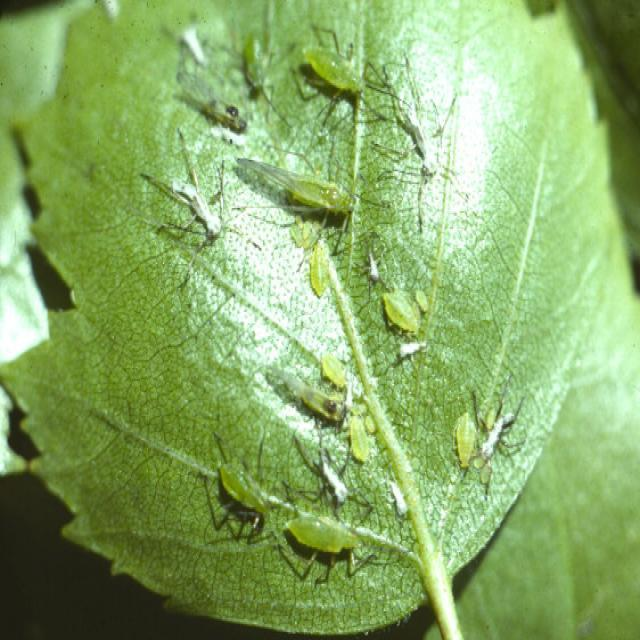Aphids: (201, 429, 287, 562), (285, 494, 381, 590), (441, 381, 491, 488)
